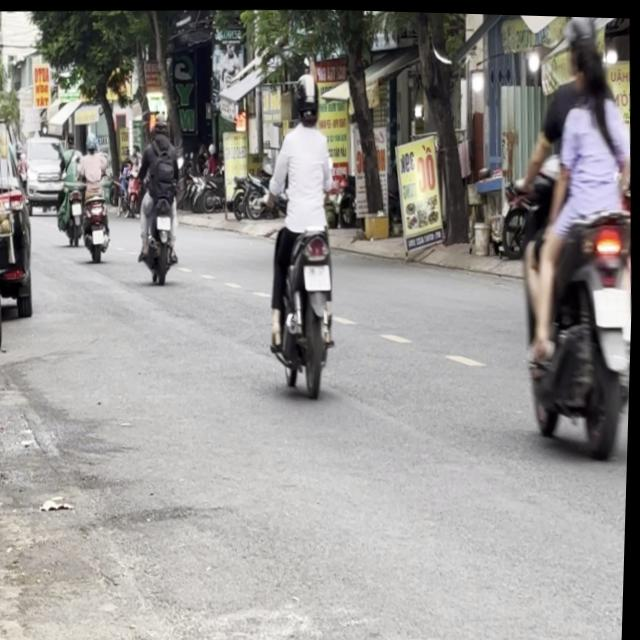helmet: (563, 13, 605, 66), (293, 67, 324, 125)
licenseplate: (506, 12, 640, 459), (257, 62, 350, 395)
motorcyclist: (568, 31, 610, 105)
nohelmet: (596, 283, 633, 321), (305, 261, 333, 289)
